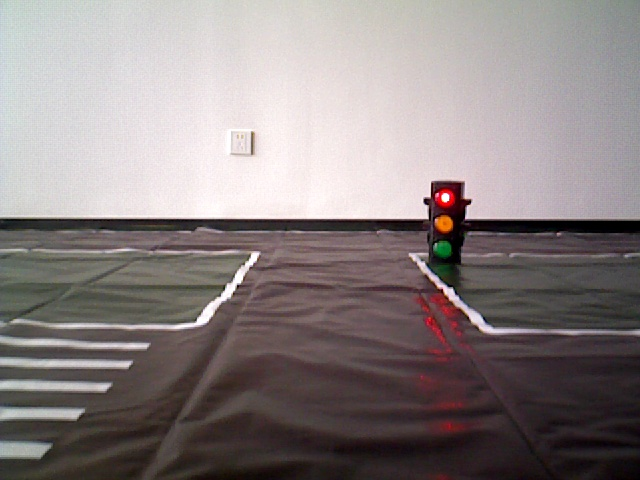red: (429, 182, 457, 266)
